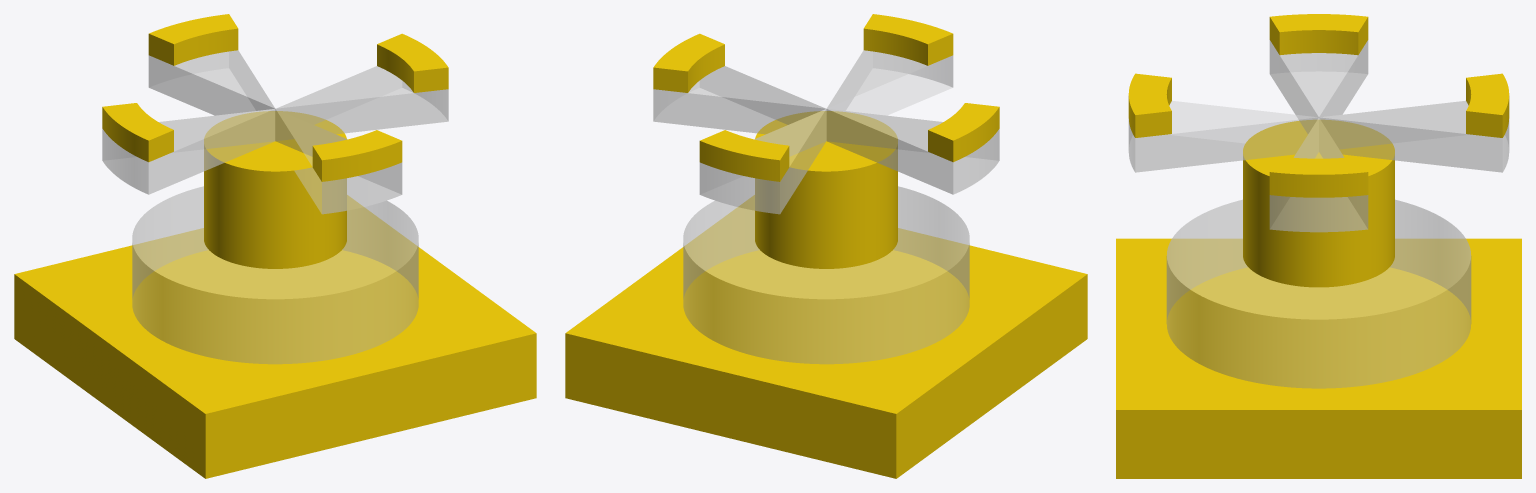
Rendered from gold.dae.
3 views of the same model, side by side, from view 1: azimuth 30°, elevation 25°; view 2: azimuth 150°, elevation 25°; view 3: azimuth 270°, elevation 25° (orthographic). The views are drawn at different scales.
Parts seen in each view (by area): view 1: base_gold_1 (×9); view 2: base_gold_1 (×9); view 3: base_gold_1 (×9).
Boxes of the visible parts, <box> form: base_gold_1 (×9): <box>14,14,536,478</box>; base_gold_1 (×9): <box>565,14,1087,478</box>; base_gold_1 (×9): <box>1116,14,1521,478</box>.
Size of the model in its own units: 315 by 315 by 256.
